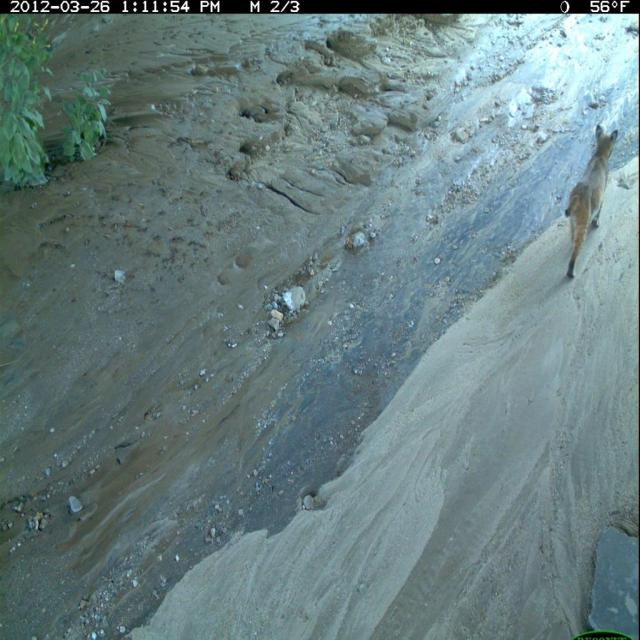bobcat: (559, 122, 622, 284)
